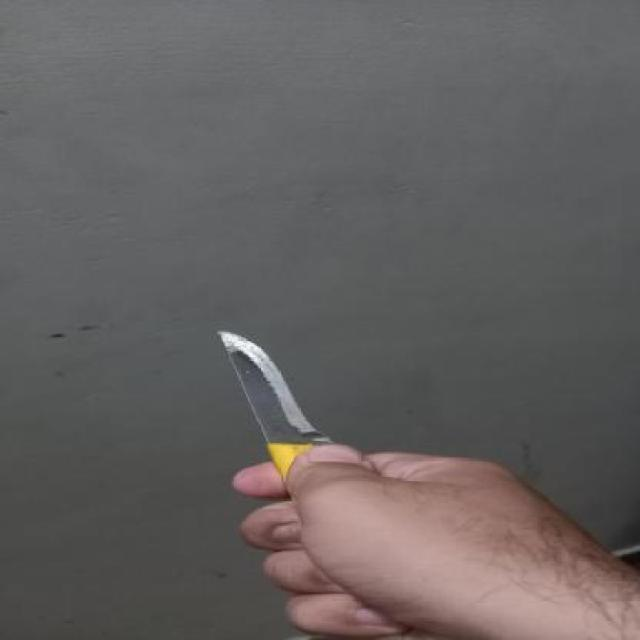knife: (218, 331, 334, 484)
